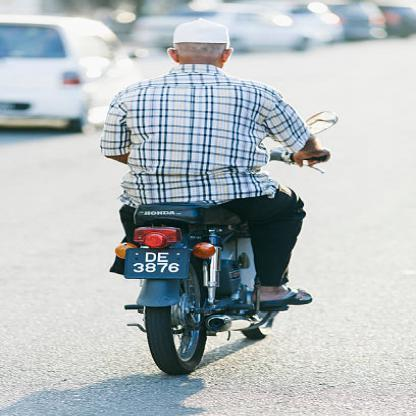Motorcycle: (79, 130, 340, 377)
